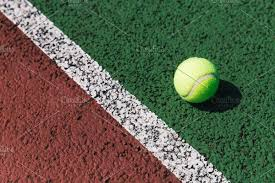tennis_ball: (173, 56, 219, 104)
